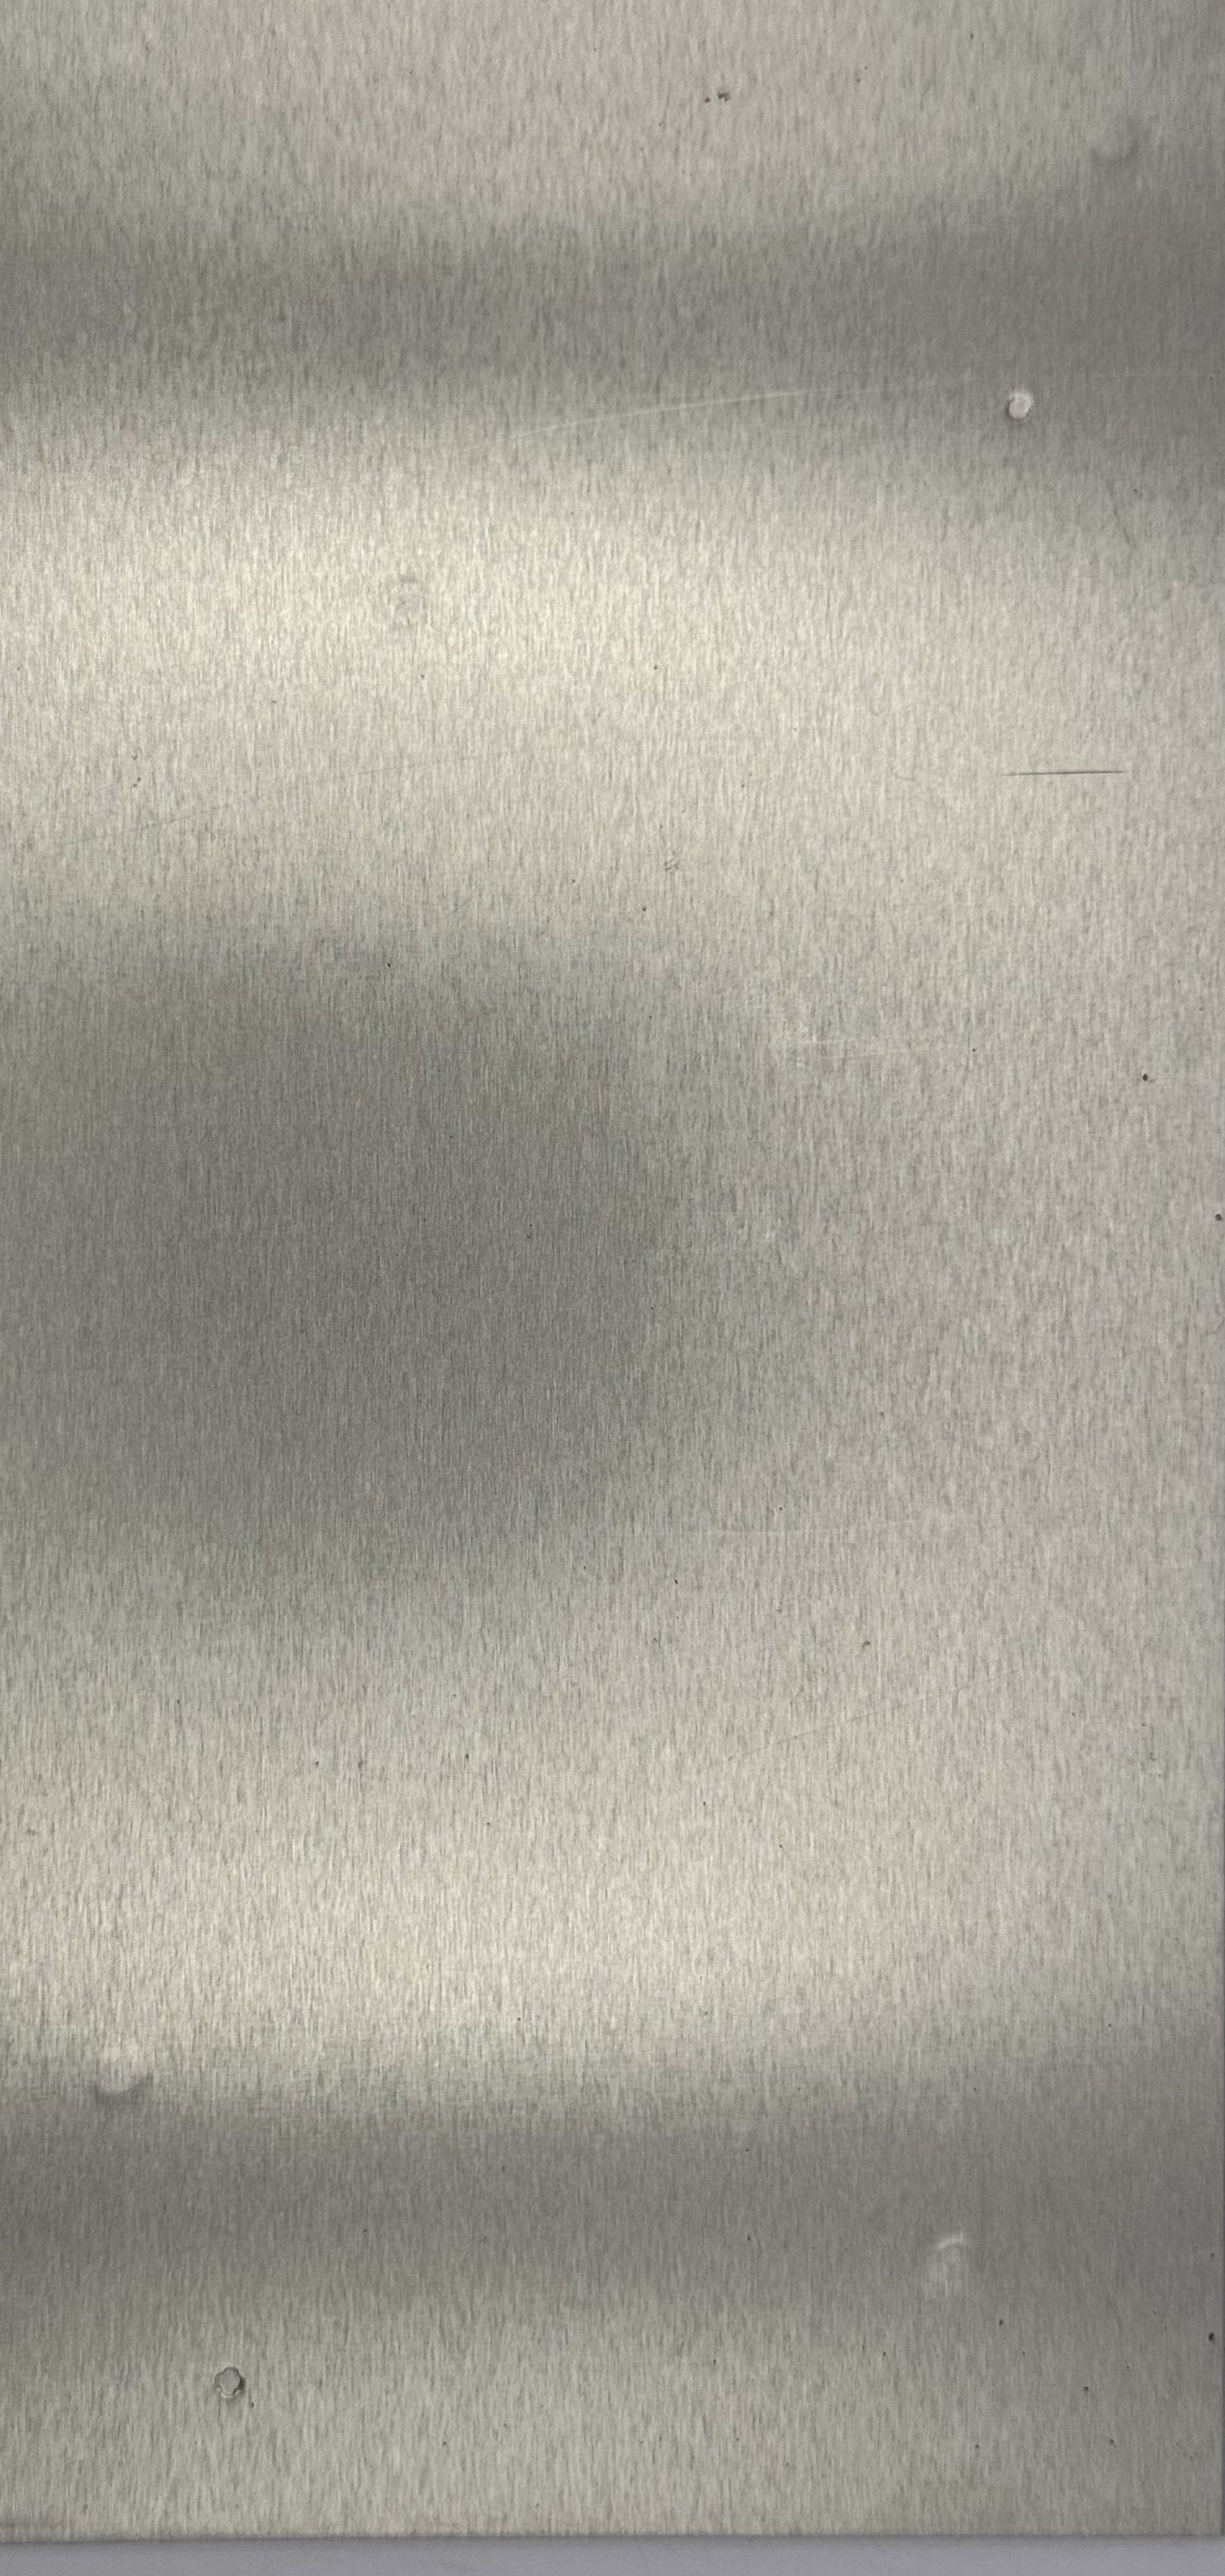Delle: (892, 2219, 1028, 2333), (1041, 92, 1184, 197), (64, 2024, 189, 2119), (194, 2349, 271, 2423), (358, 570, 443, 634), (993, 384, 1046, 424)
